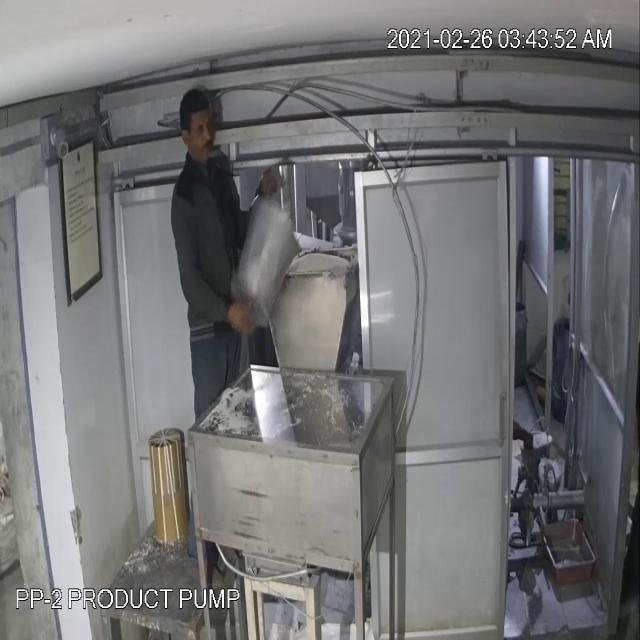no-helmet: (169, 86, 226, 174)
